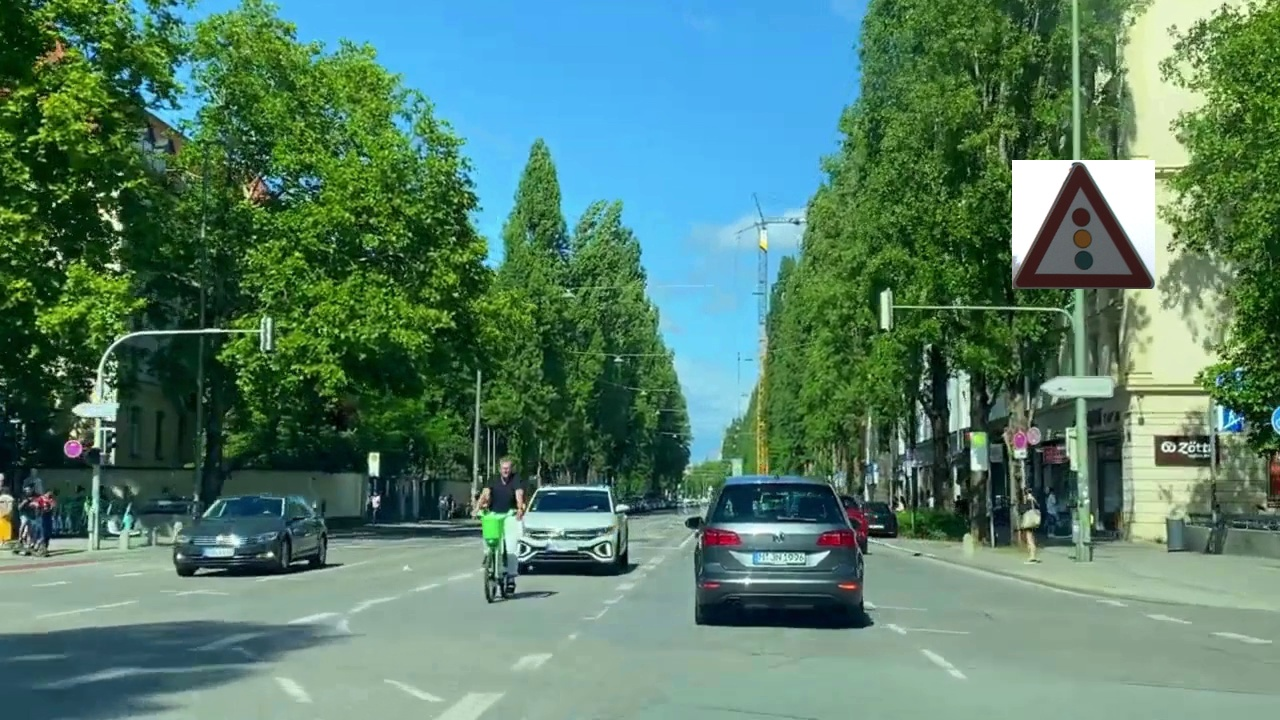Signals: (1012, 160, 1155, 289)
